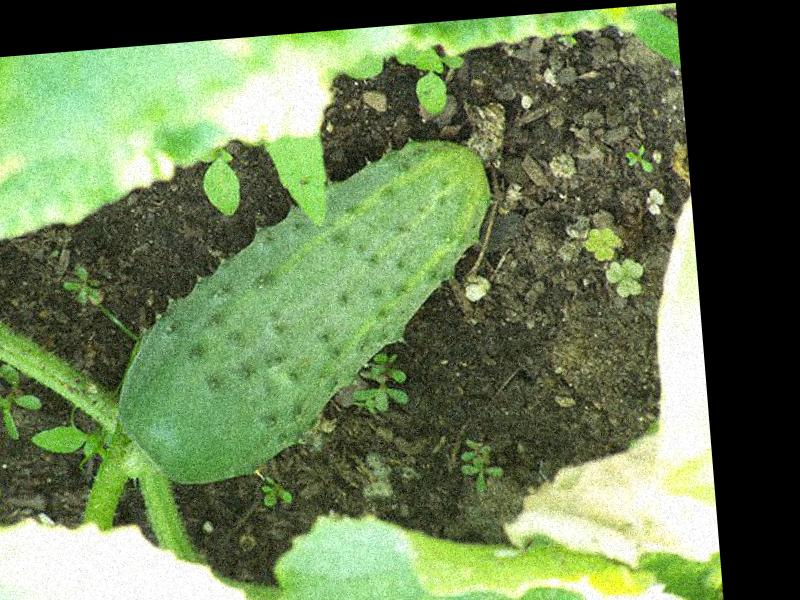Cucumber: (96, 136, 511, 491)
